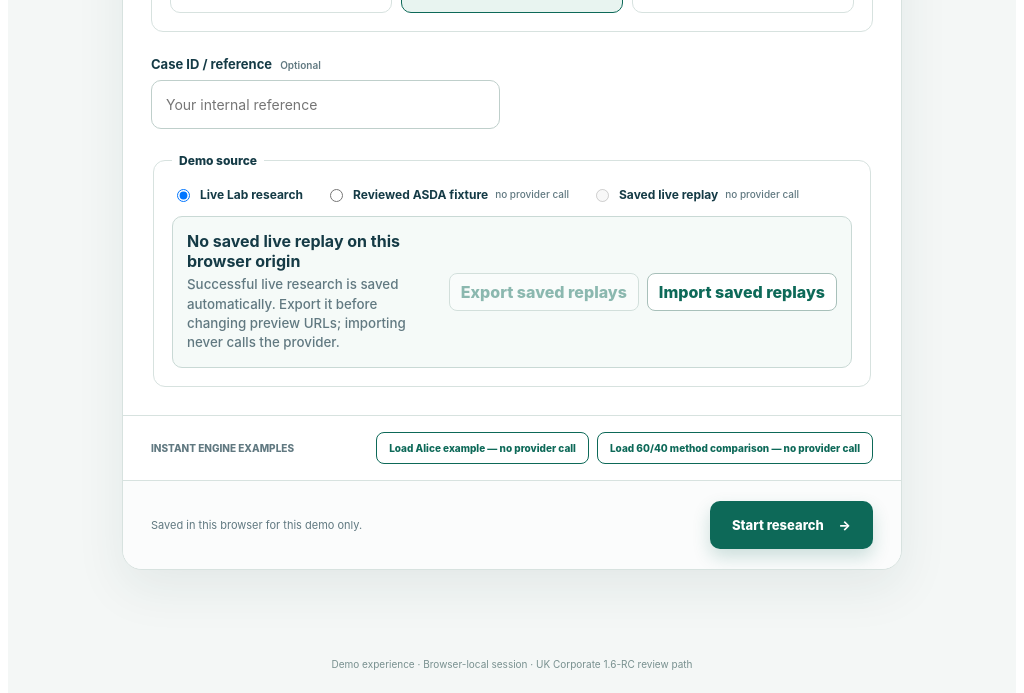
required fields are validated and case reference stays optional
This screenshot has width=1024, height=693.
(page scrolled)
Click the button "Start research →": {"x": 791, "y": 525} x1=710 y1=501 x2=873 y2=549
(page scrolled)
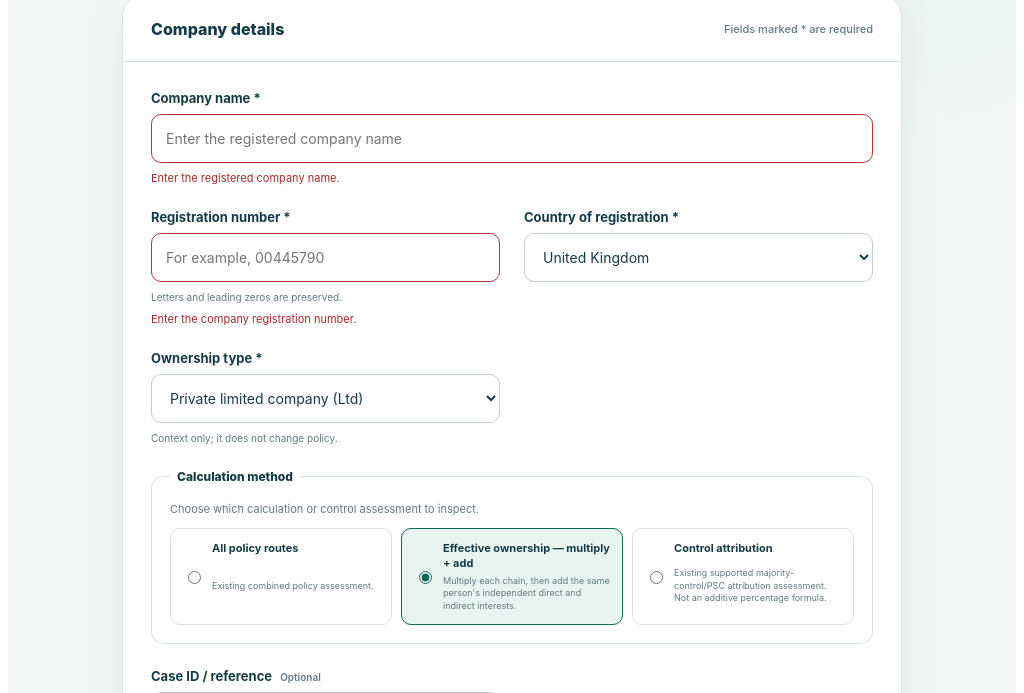
Now the text "Enter the registered company name." is shown, box x1=151 y1=171 x2=340 y2=185
Now the text "Enter the company registration number." is shown, box x1=151 y1=312 x2=356 y2=326
